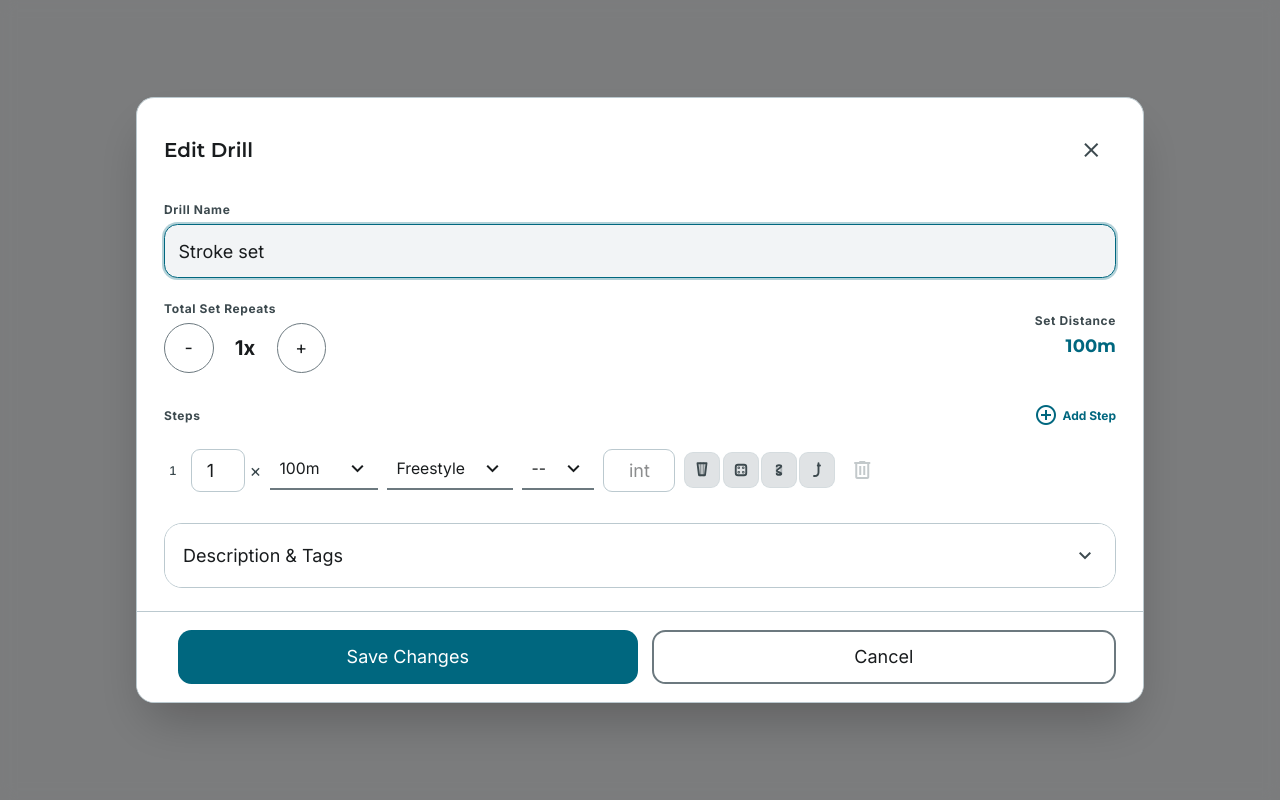
it: DrillEditorModal › keeps the drill editor open when Escape dismisses the stroke confirmation
Click the button "Freestyle": {"x": 450, "y": 470} x1=387 y1=451 x2=513 y2=490
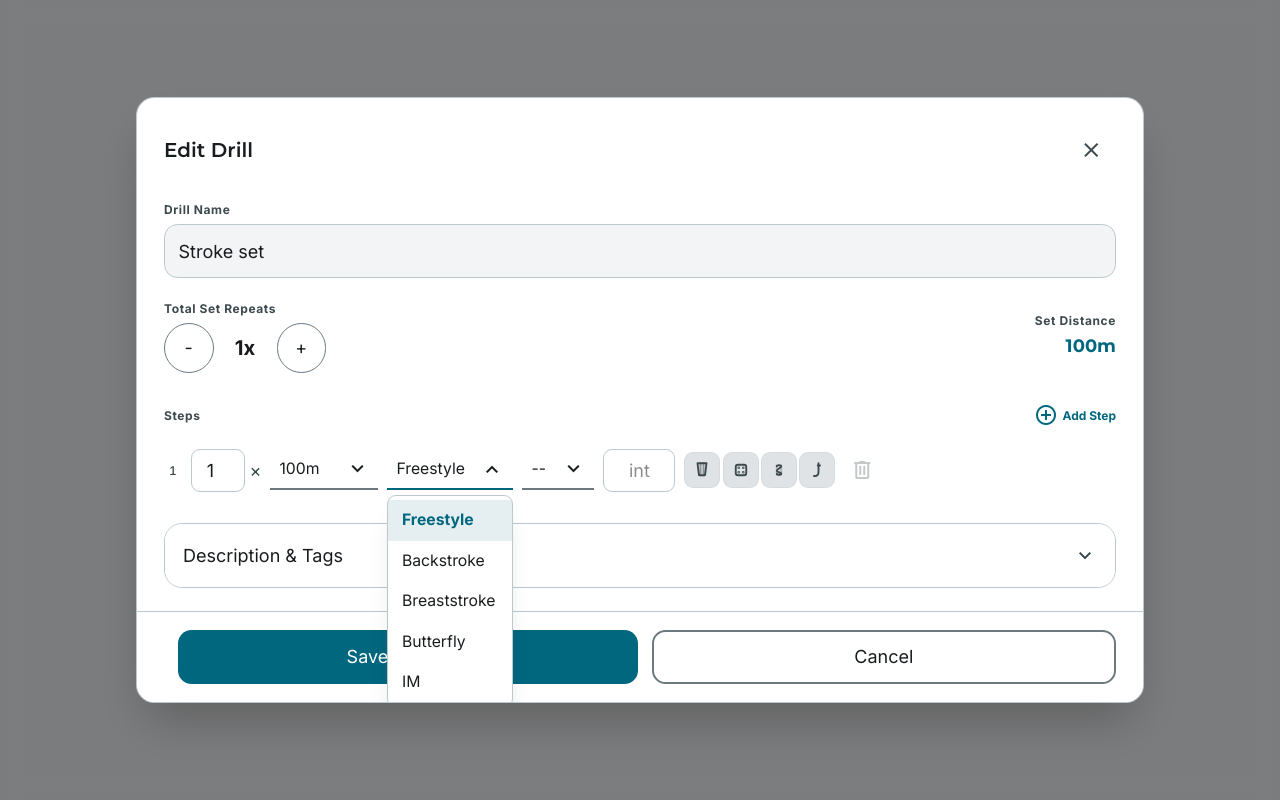
Click the button "Breaststroke": {"x": 450, "y": 601} x1=388 y1=581 x2=512 y2=622
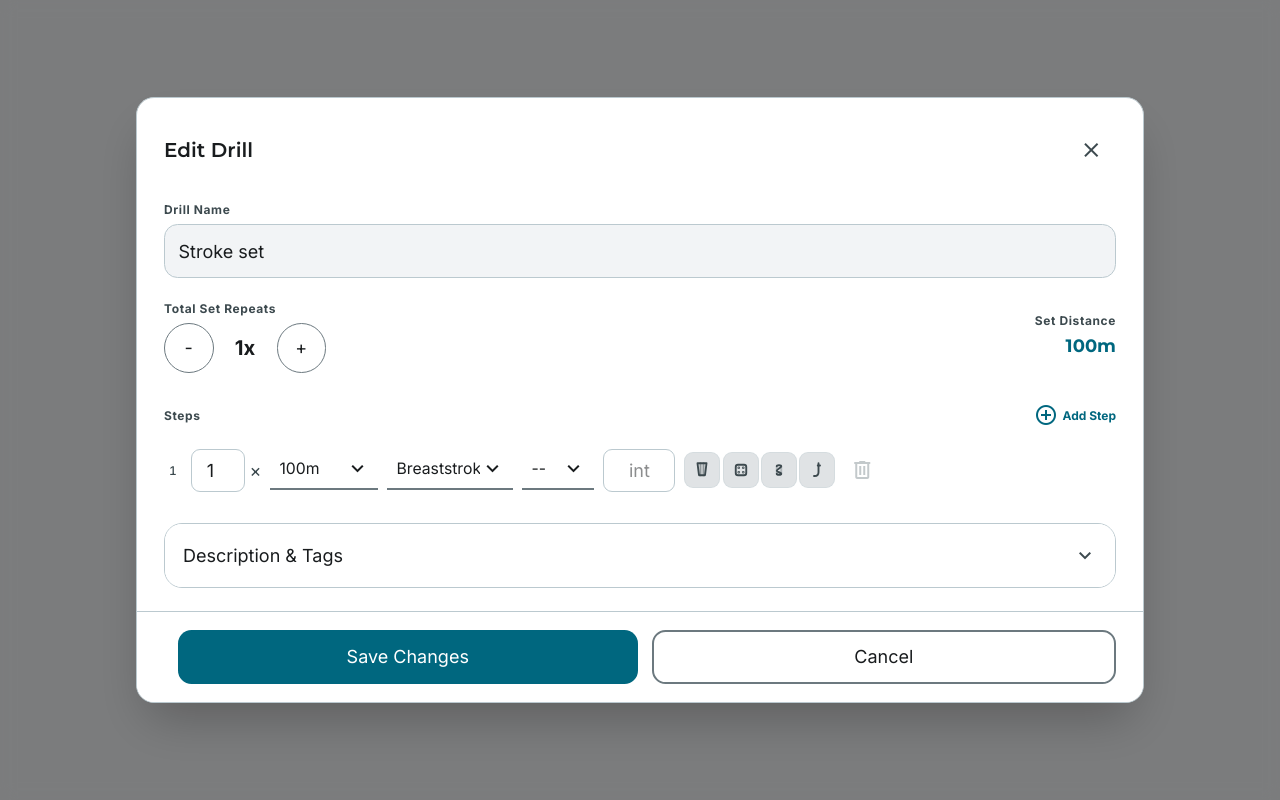
Click the button "Save Changes": {"x": 408, "y": 657} x1=178 y1=630 x2=638 y2=684
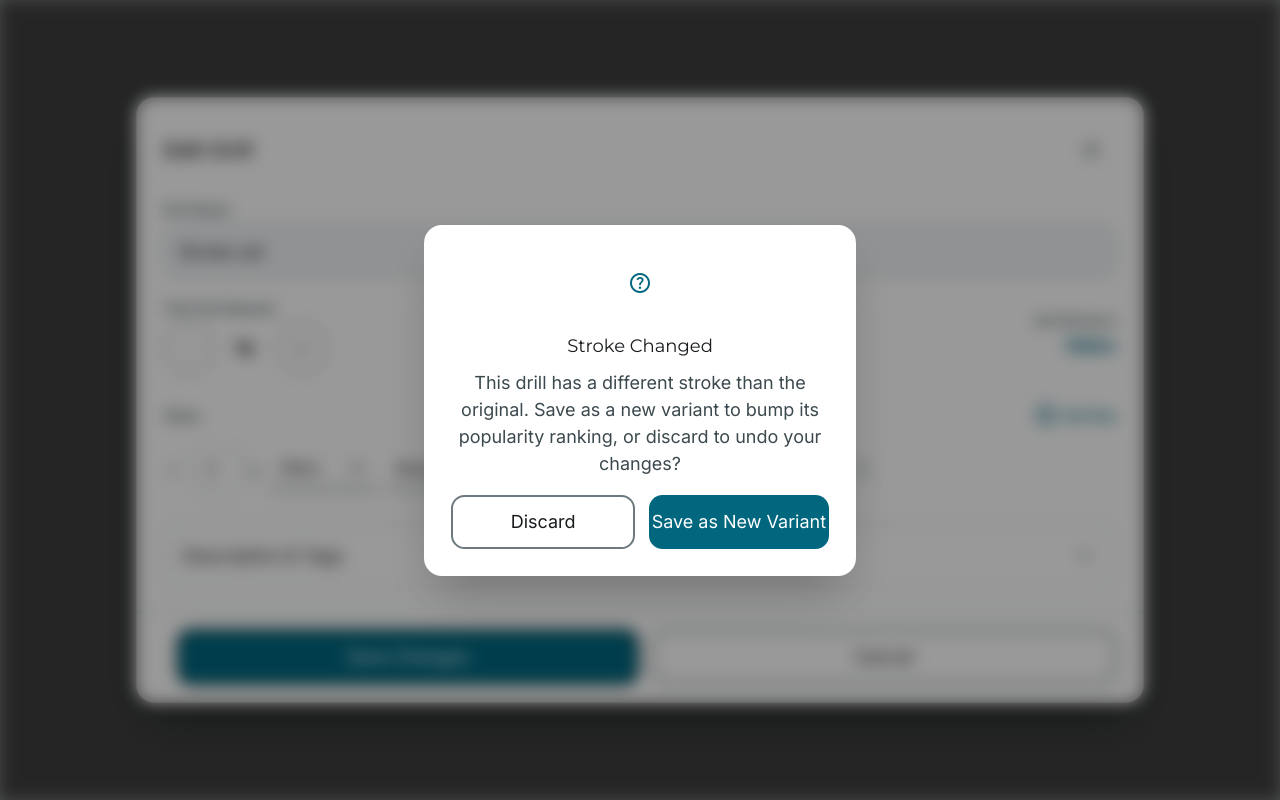
Expected: the heading "Stroke Changed" is shown, x1=567 y1=334 x2=713 y2=356
Press Escape
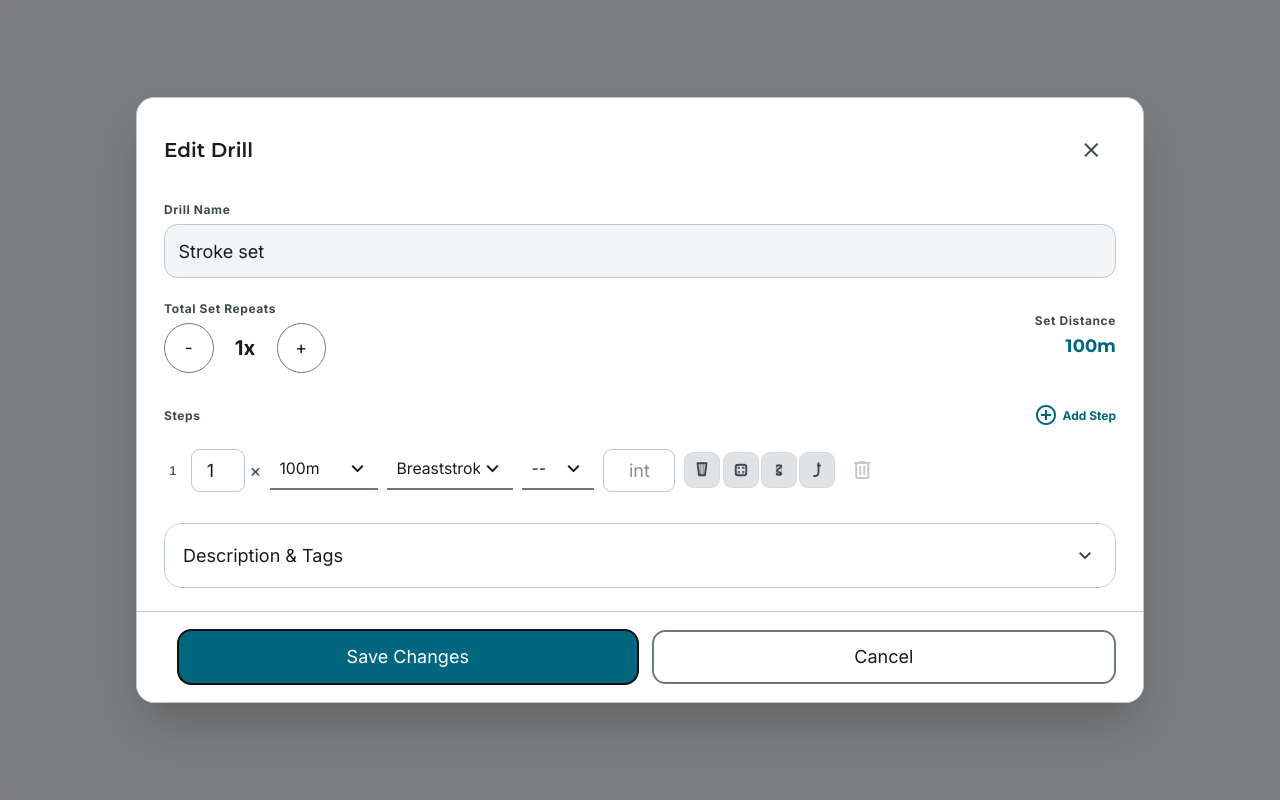
Expected: the dialog "Edit Drill" is shown, x1=136 y1=97 x2=1144 y2=703
Expected: the button "Breaststroke" is shown, x1=387 y1=451 x2=513 y2=490
Expected: the heading "Stroke Changed" is gone
